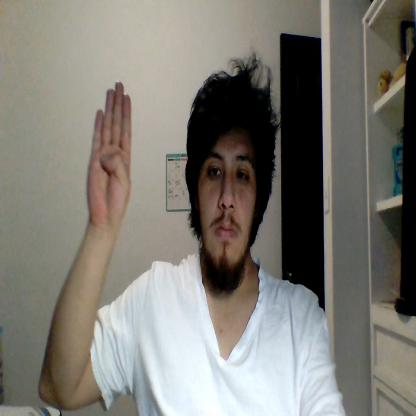B: (86, 80, 132, 228)
